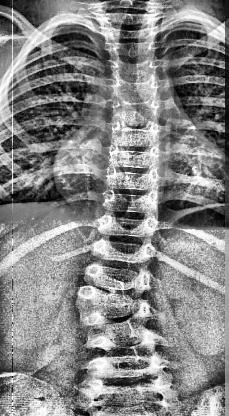Vertebrae: (84, 310, 158, 344), (82, 378, 173, 404), (91, 235, 159, 263), (92, 352, 170, 376), (82, 288, 150, 314), (88, 265, 154, 289), (98, 214, 162, 234), (112, 101, 164, 125), (109, 147, 166, 168), (110, 78, 164, 100), (106, 168, 158, 190), (112, 124, 161, 146), (103, 192, 159, 210), (106, 39, 156, 59), (112, 61, 158, 77)
